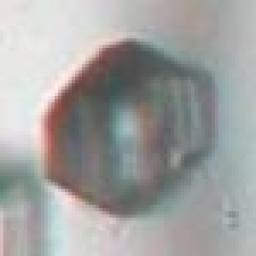crystals: (34, 37, 221, 222)
